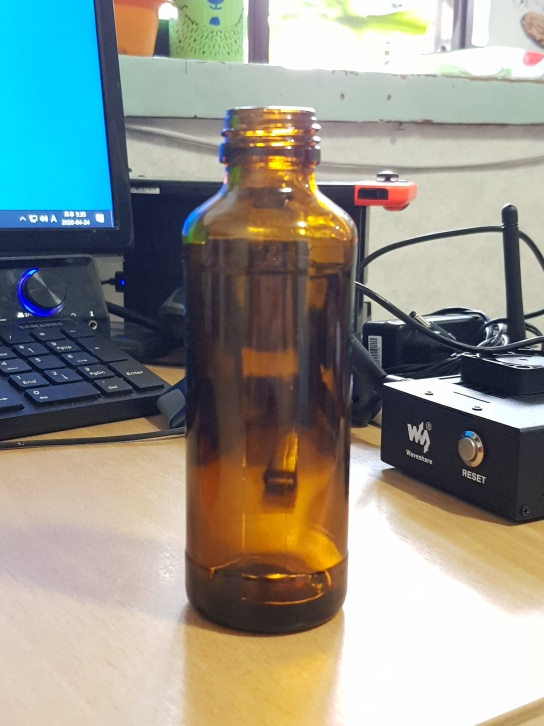Glass: (182, 107, 353, 633)
